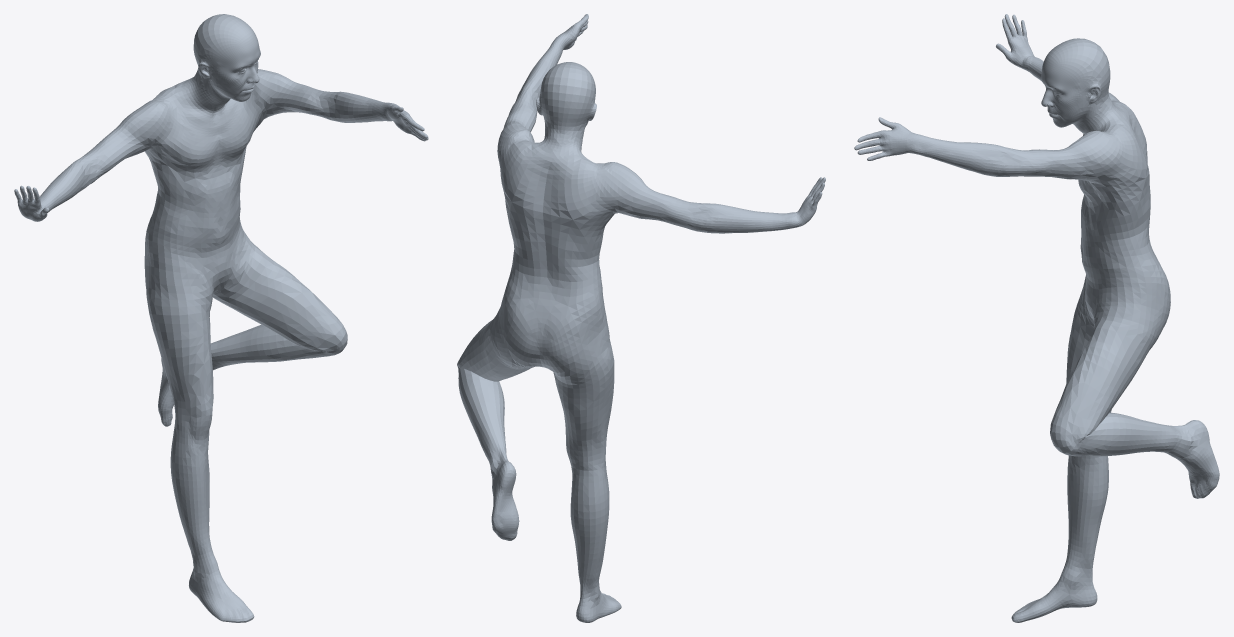
Rendered from pose.glb.
The picture shows the model from 3 angles, left to right: view 1: azimuth 30°, elevation 25°; view 2: azimuth 150°, elevation 25°; view 3: azimuth 270°, elevation 25°; orthographic projection. The views are drawn at different scales.
Parts seen in each view (by area): view 1: person_00; view 2: person_00; view 3: person_00.
Boxes of the visible parts, x1=… form: person_00: x1=14, y1=14, x2=428, y2=622; person_00: x1=457, y1=14, x2=825, y2=622; person_00: x1=854, y1=14, x2=1219, y2=622.
Size of the model in its own units: 1.13 by 1.77 by 1.01.
